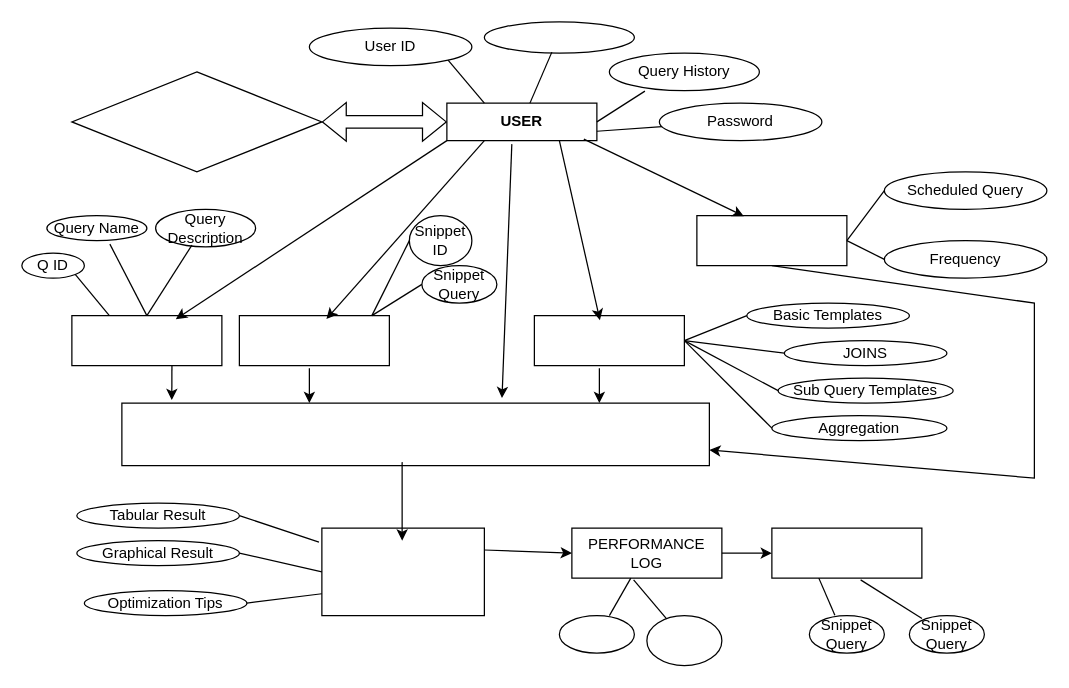
Image size: 1069x688. Some labels were removed from this diagram. Here are the shapes that lost their labels. From the top down, the centre of each, then its label:
pixel 558 37: Email
pixel 196 121: COLLABORATION
pixel 771 240: QUERY SCHEDULER
pixel 146 340: SAVED QUERY
pixel 313 340: QUERY SNIPPETS
pixel 608 340: QUERY TEMPLATES
pixel 415 434: QUERY RUNNER
pixel 402 571: QUERY RESULT SECTION
pixel 846 552: RESOURCE MONITOR
pixel 596 633: Time Taken
pixel 684 640: Rows Executed
